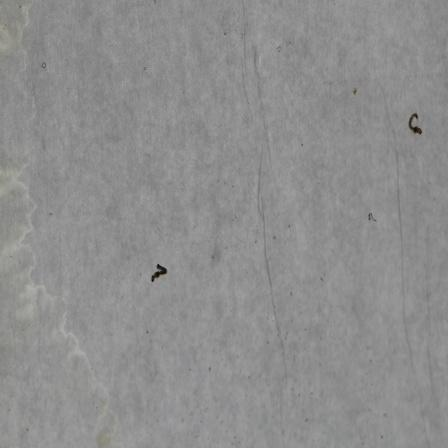Jentik-Nyamuk: (146, 260, 172, 287), (404, 109, 427, 137)
